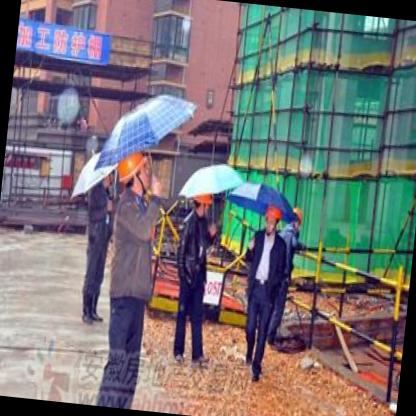helmet: (114, 152, 155, 202), (262, 203, 284, 239), (194, 187, 216, 221), (287, 200, 306, 234)
